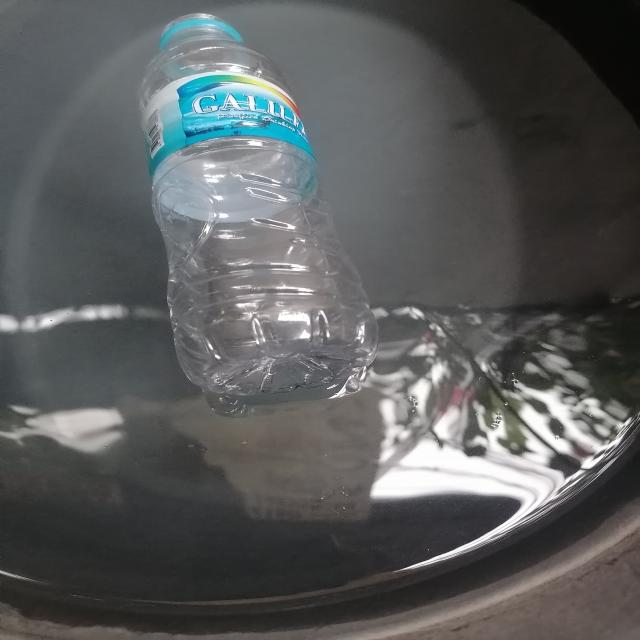Plastic Bottle: (140, 22, 377, 415)
